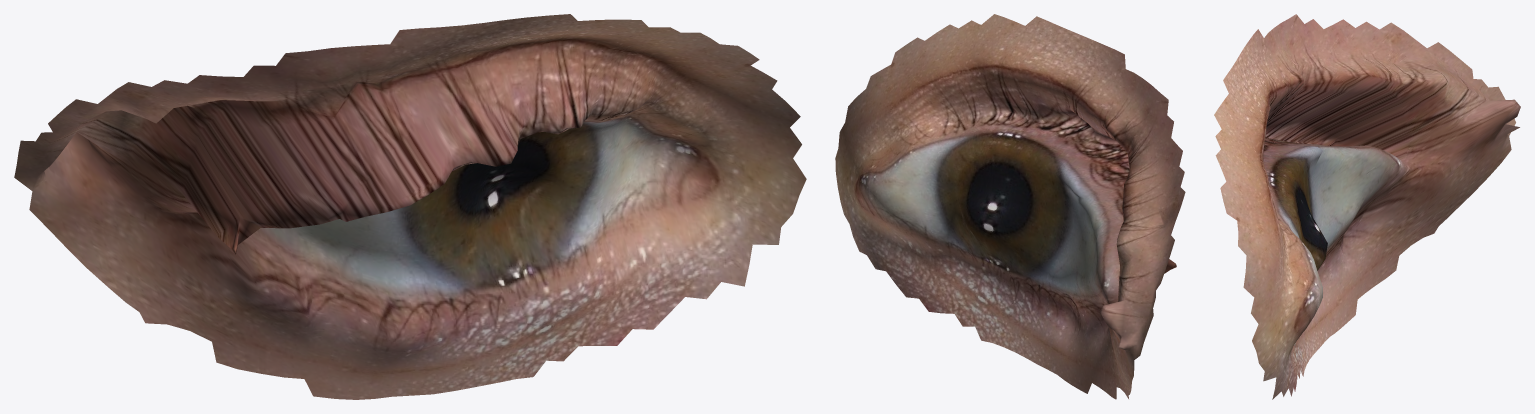
File: eye04right.obj
3 views of the same model, side by side, from view 1: azimuth 30°, elevation 25°; view 2: azimuth 150°, elevation 25°; view 3: azimuth 270°, elevation 25° (orthographic). The views are drawn at different scales.
Visible parts, largest first — view 1: default; view 2: default; view 3: default.
Boxes of the visible parts, x1=… form: default: x1=14, y1=14, x2=806, y2=399; default: x1=835, y1=14, x2=1185, y2=399; default: x1=1214, y1=14, x2=1520, y2=399.
Size of the model in its own units: 36.28 by 23.58 by 22.25.
Materials: 1 (1 with a texture image).
